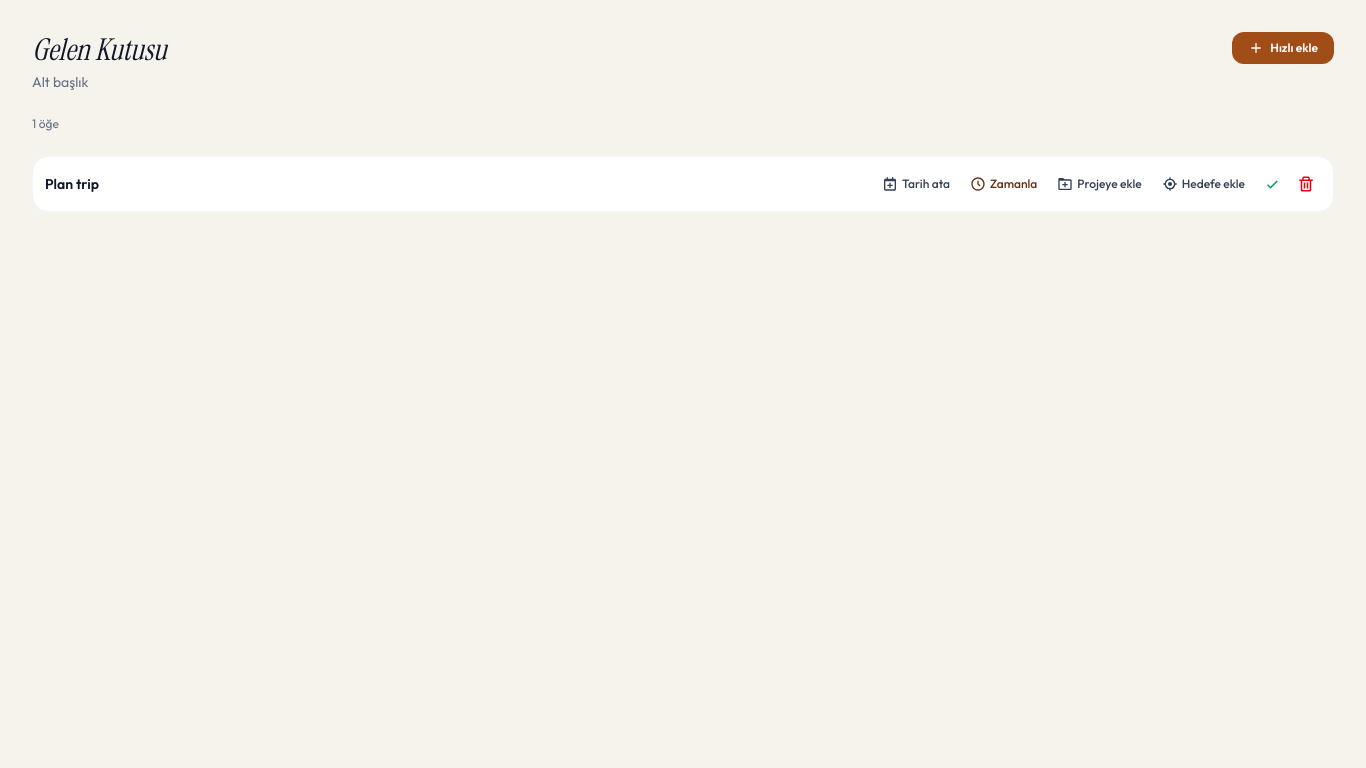
Test case: InboxPage › opens ScheduleModal for the row's task
Click the button "Zamanla" at {"x": 1004, "y": 184}, box x1=962 y1=172 x2=1045 y2=196
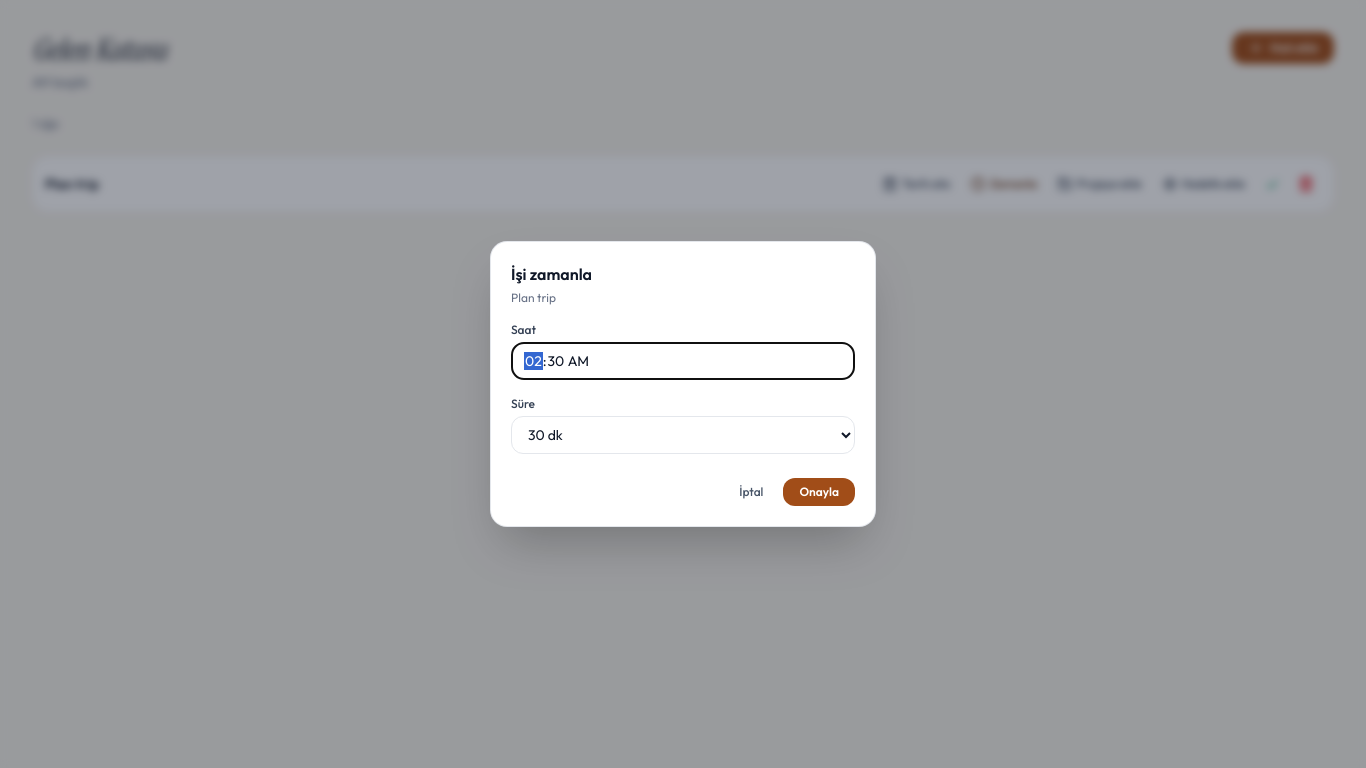
Check: the text "Plan trip" is shown, box x1=511 y1=290 x2=556 y2=305
